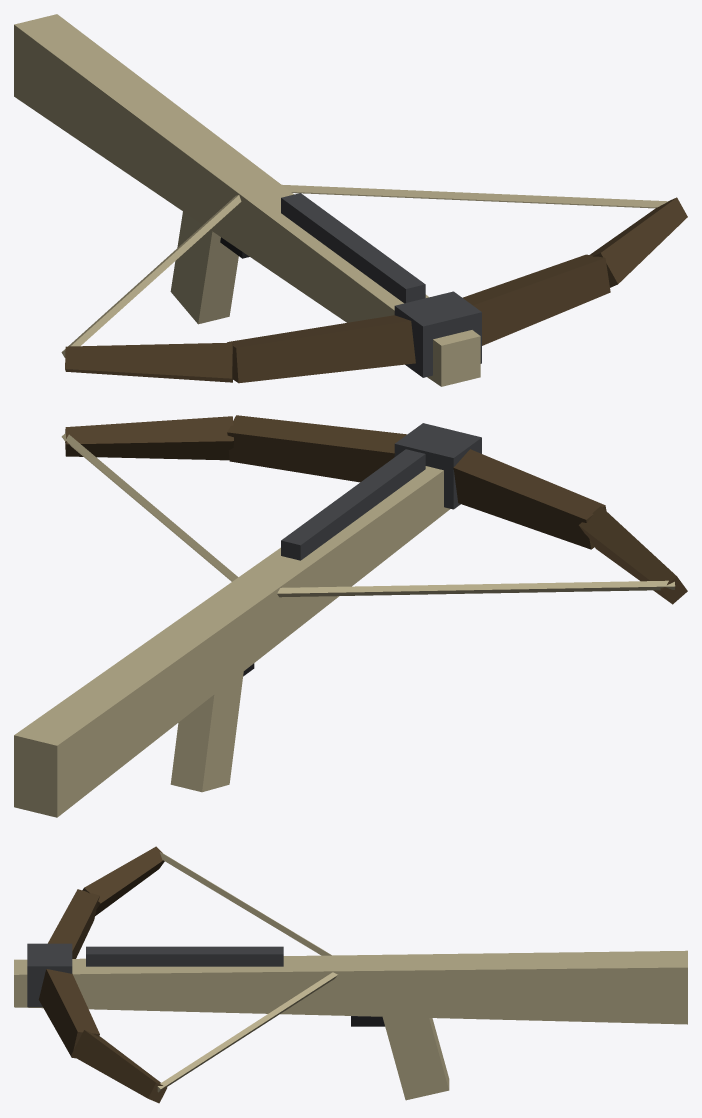
The model's file is wtype_crossbow.glb.
3 renders of one model, top to bottom at view 1: azimuth 30°, elevation 25°; view 2: azimuth 150°, elevation 25°; view 3: azimuth 270°, elevation 25°, orthographic. The views are drawn at different scales.
Visible parts, largest first — view 1: wtype_crossbow; view 2: wtype_crossbow; view 3: wtype_crossbow.
Part boxes in pixels (box(x1,y1,x2,y2)): wtype_crossbow: box(14, 14, 687, 386); wtype_crossbow: box(14, 415, 687, 817); wtype_crossbow: box(14, 846, 687, 1103).
Size of the model in its own units: 0.6341 by 0.1766 by 0.75.
